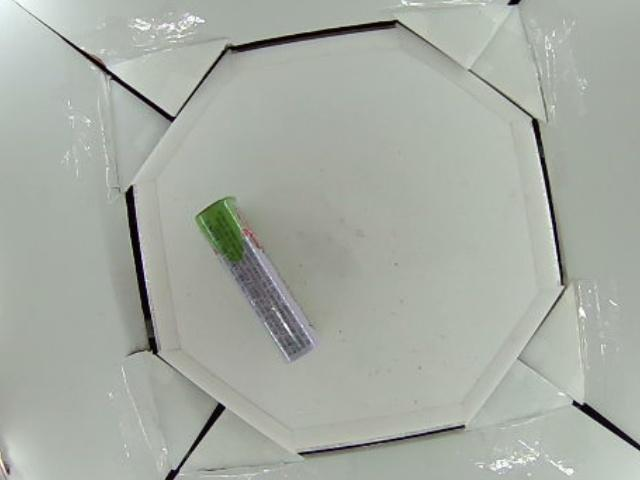Bottle: (197, 197, 324, 363)
